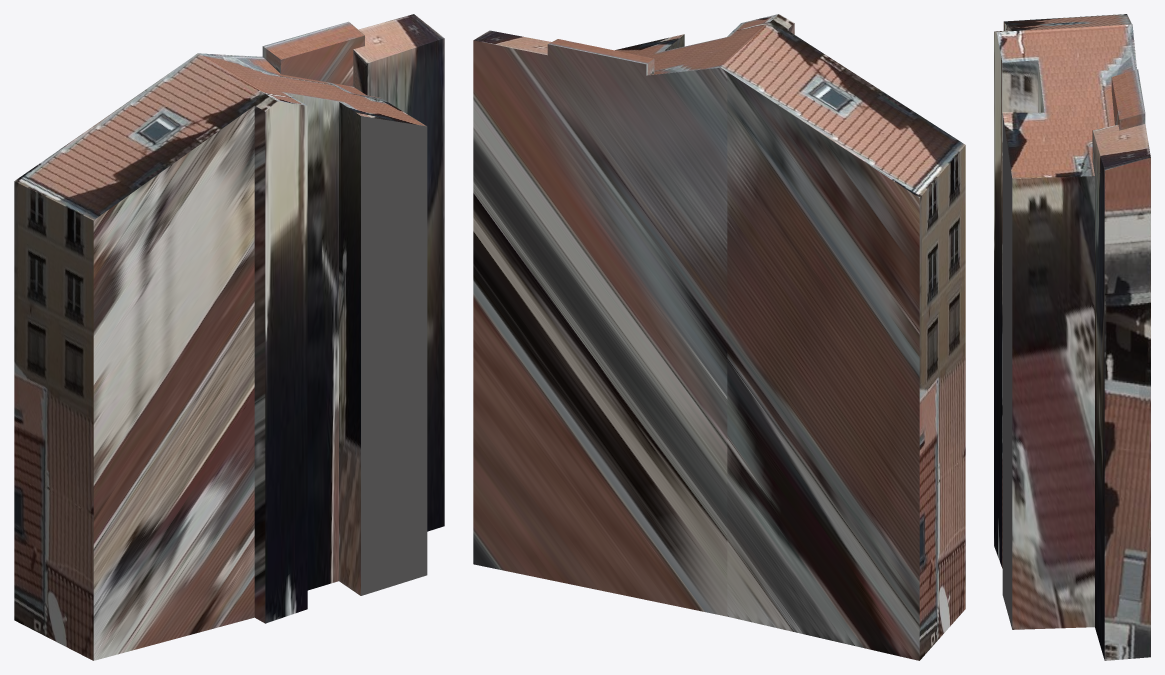
3 views of the same model, side by side, from view 1: azimuth 30°, elevation 25°; view 2: azimuth 150°, elevation 25°; view 3: azimuth 270°, elevation 25° (orthographic). The views are drawn at different scales.
Parts seen in each view (by area): view 1: Z_UP; view 2: Z_UP; view 3: Z_UP.
Part boxes in pixels (x1,y1,x2,y2): Z_UP: (14, 14, 444, 660); Z_UP: (473, 14, 965, 660); Z_UP: (994, 14, 1150, 660).
Size of the model in its own units: 20.63 by 24.43 by 6.65.
Materials: 2 (1 with a texture image).
